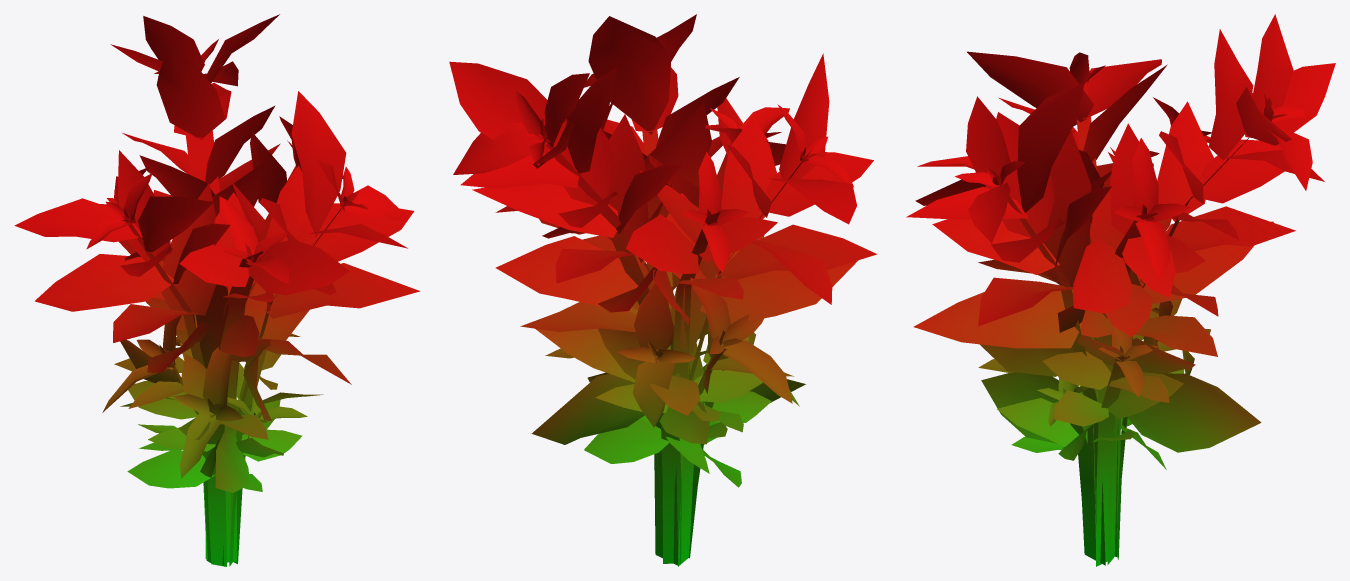
File: Var6_LOD4.fbx
3 renders of one model, left to right at view 1: azimuth 30°, elevation 25°; view 2: azimuth 150°, elevation 25°; view 3: azimuth 270°, elevation 25°, orthographic. The views are drawn at different scales.
Visible parts, largest first — view 1: _fvhy_Var6_LOD4; view 2: _fvhy_Var6_LOD4; view 3: _fvhy_Var6_LOD4.
Boxes of the visible parts, x1,y1,x2,y2 form: _fvhy_Var6_LOD4: (14,14,420,566); _fvhy_Var6_LOD4: (449,14,876,566); _fvhy_Var6_LOD4: (906,14,1335,566).
Size of the model in its own units: 20.57 by 28.84 by 20.6.
